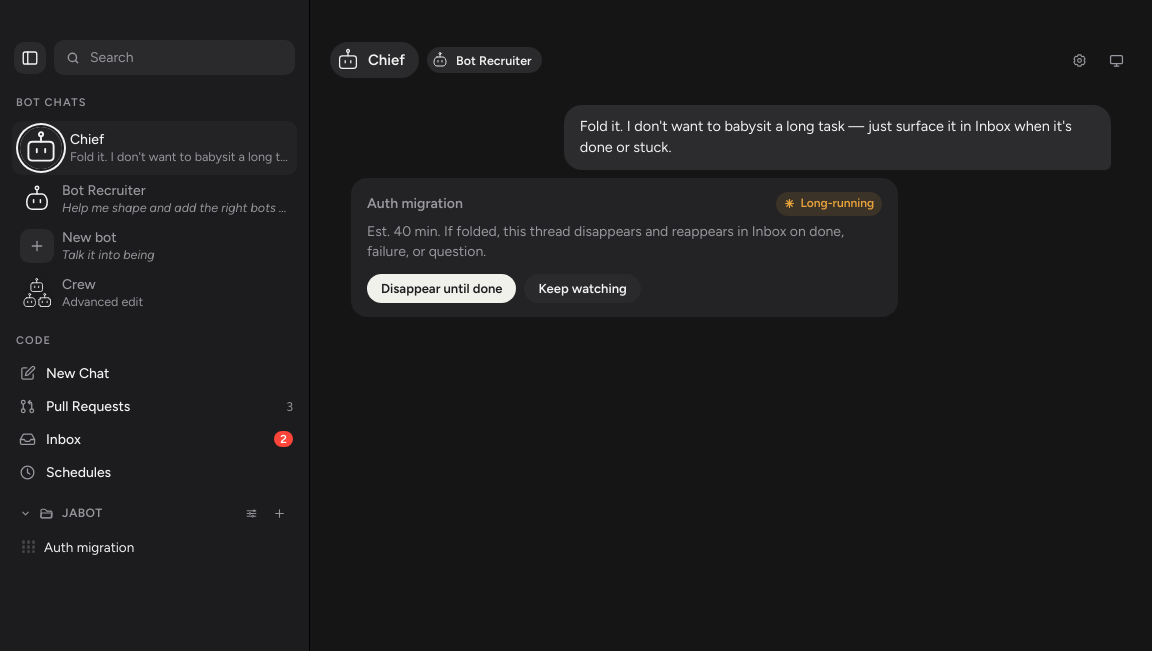
Test: folding a host-owned thread › folds from the chat you are reading, and stops pointing at it
(page scrolled)
Expected: the button named "New thread in jabot" is shown, [269,504,289,524]
Click the button "Auth migration" at (89, 547), box [14,531,295,563]
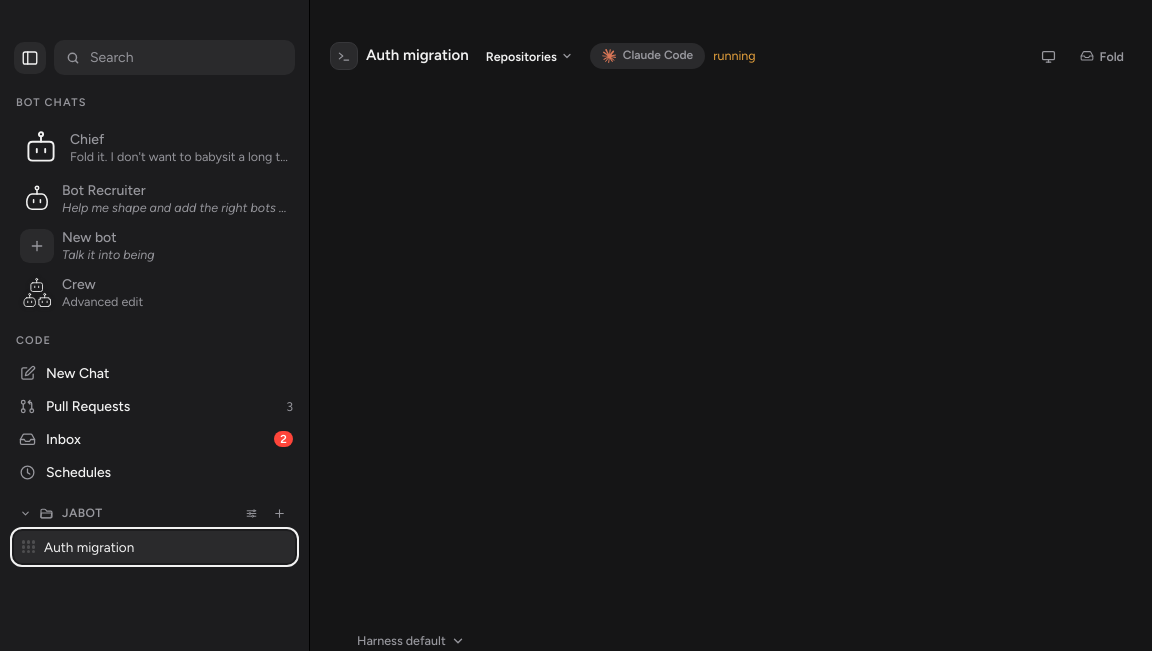
Expected: the heading "Auth migration" is shown, [366,45,469,67]
Click the button "Fold" at (1102, 56), box [1072,44,1132,68]
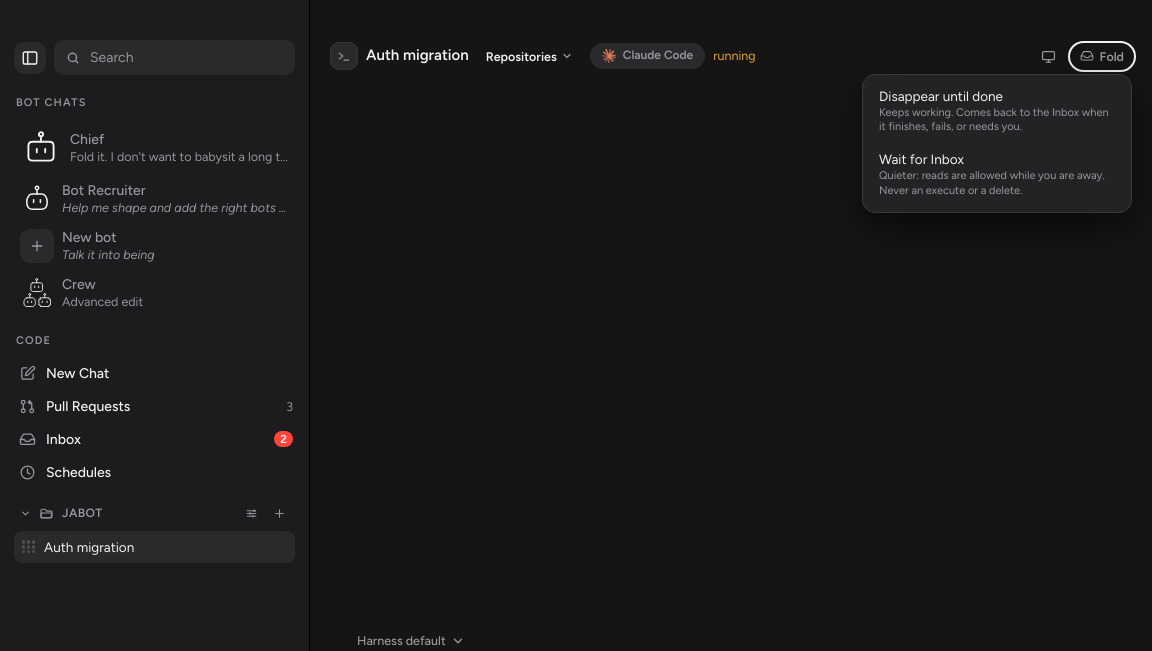
Click the menu item "Disappear until done" at (997, 111), box [868,80,1126,143]
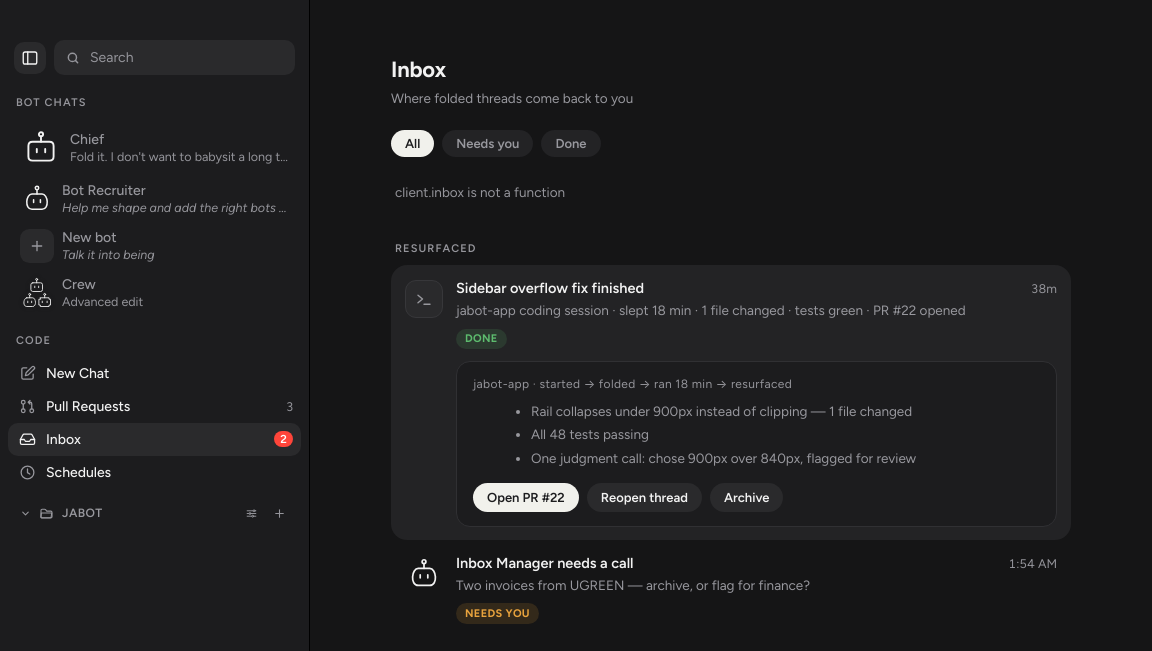
Now the heading "Inbox" is shown, box [391,56,446,83]
